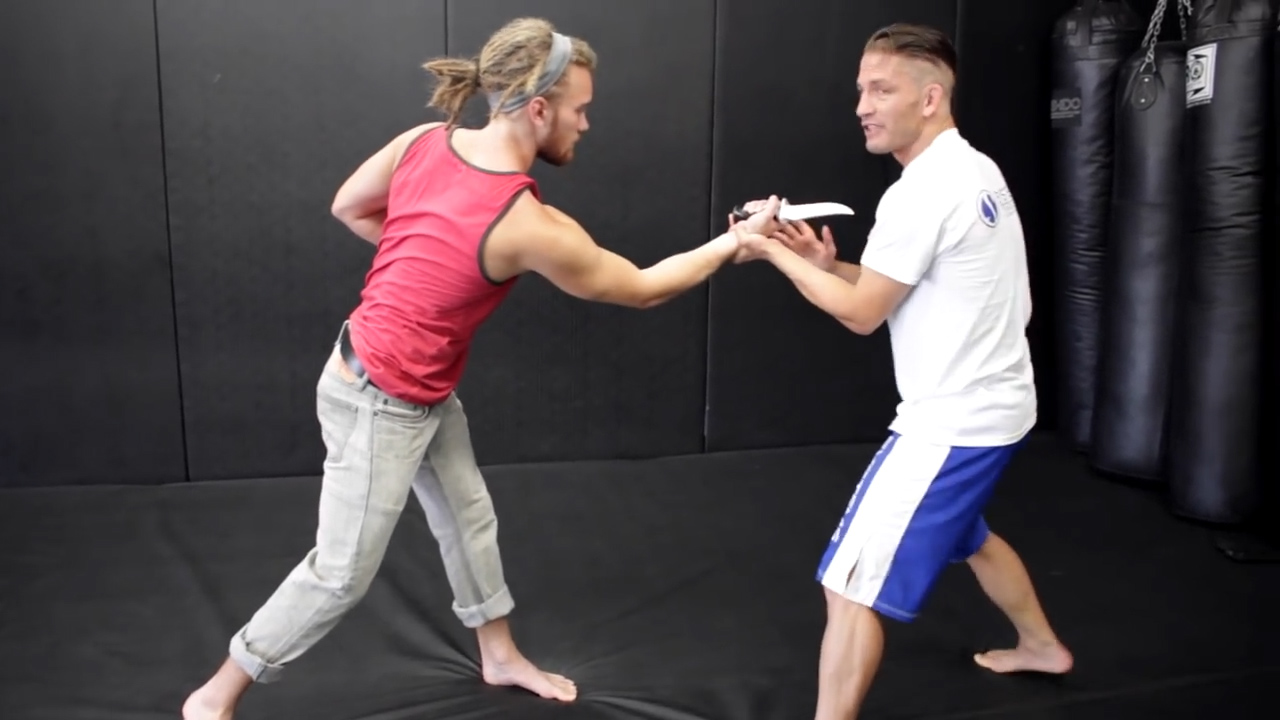knife: (720, 181, 864, 235)
